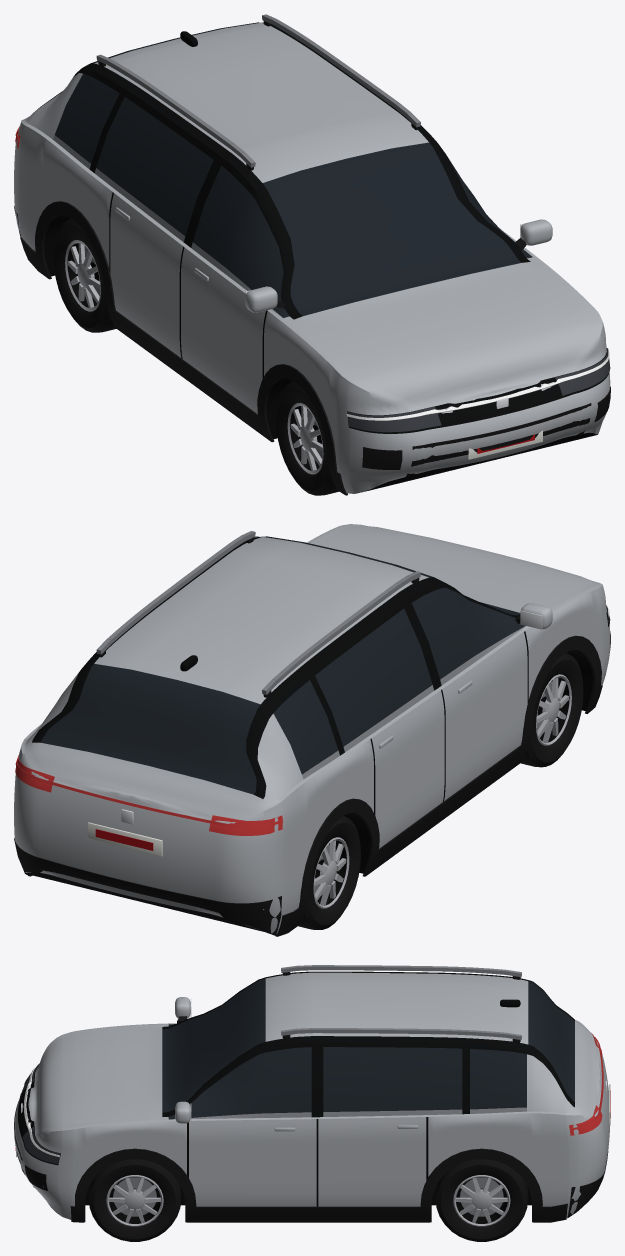
The model's file is vw_tiguan.glb.
3 renders of one model, top to bottom at view 1: azimuth 30°, elevation 25°; view 2: azimuth 150°, elevation 25°; view 3: azimuth 270°, elevation 25°, orthographic. The views are drawn at different scales.
Parts seen in each view (by area): view 1: body, wheel-back-right, wheel-front-right; view 2: body, wheel-back-right, wheel-front-right; view 3: body, wheel-back-left, wheel-front-left.
Boxes of the visible parts, x1,y1,x2,y2 form: body: (14,14,610,495); wheel-back-right: (53,218,116,332); wheel-front-right: (276,381,338,495); body: (14,524,610,936); wheel-back-right: (298,816,360,929); wheel-front-right: (521,653,583,767); body: (14,965,610,1222); wheel-back-left: (435,1159,528,1241); wheel-front-left: (88,1159,181,1241).
Bounding box in the file's own units: 2.1 × 1.69 × 4.61.
